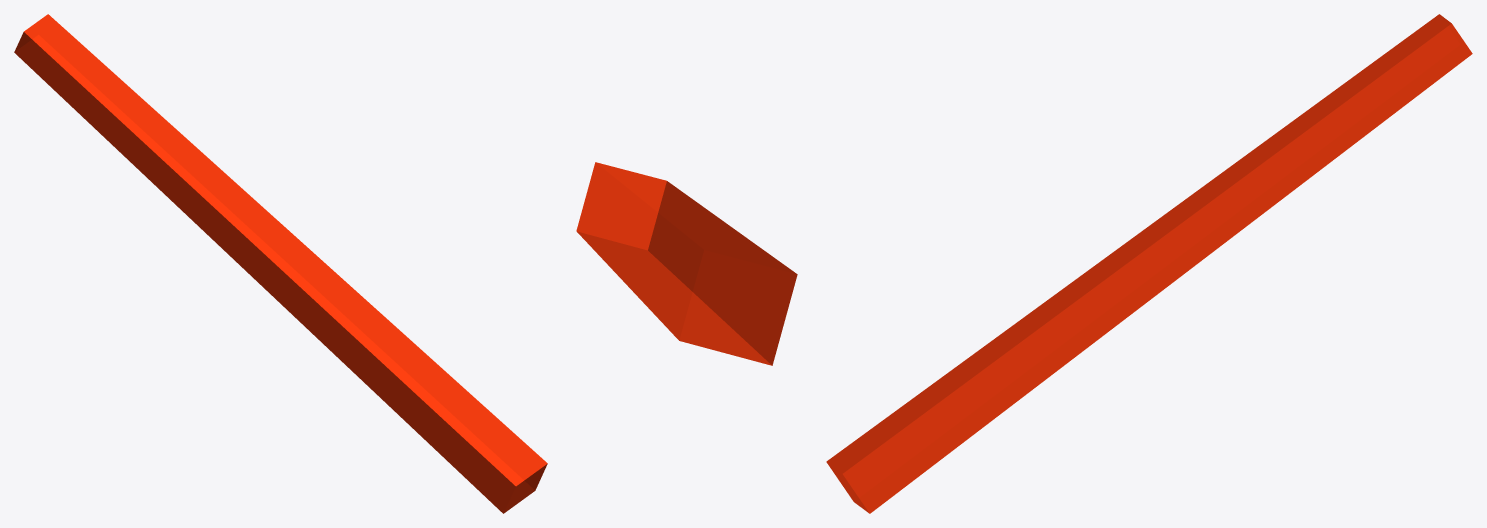
File: Event_421556567_EBrechit_15.fbx
3 views of the same model, side by side, from view 1: azimuth 30°, elevation 25°; view 2: azimuth 150°, elevation 25°; view 3: azimuth 270°, elevation 25° (orthographic). The views are drawn at different scales.
Parts seen in each view (by area): view 1: Model; view 2: Model; view 3: Model.
Part boxes in pixels (box(x1,y1,x2,y2)): Model: box(14, 14, 547, 513); Model: box(576, 162, 797, 365); Model: box(826, 14, 1472, 513).
Bounding box in the file's own units: 0.449 × 0.5867 × 0.9043.
